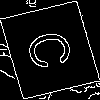C: (25, 25, 84, 73)
